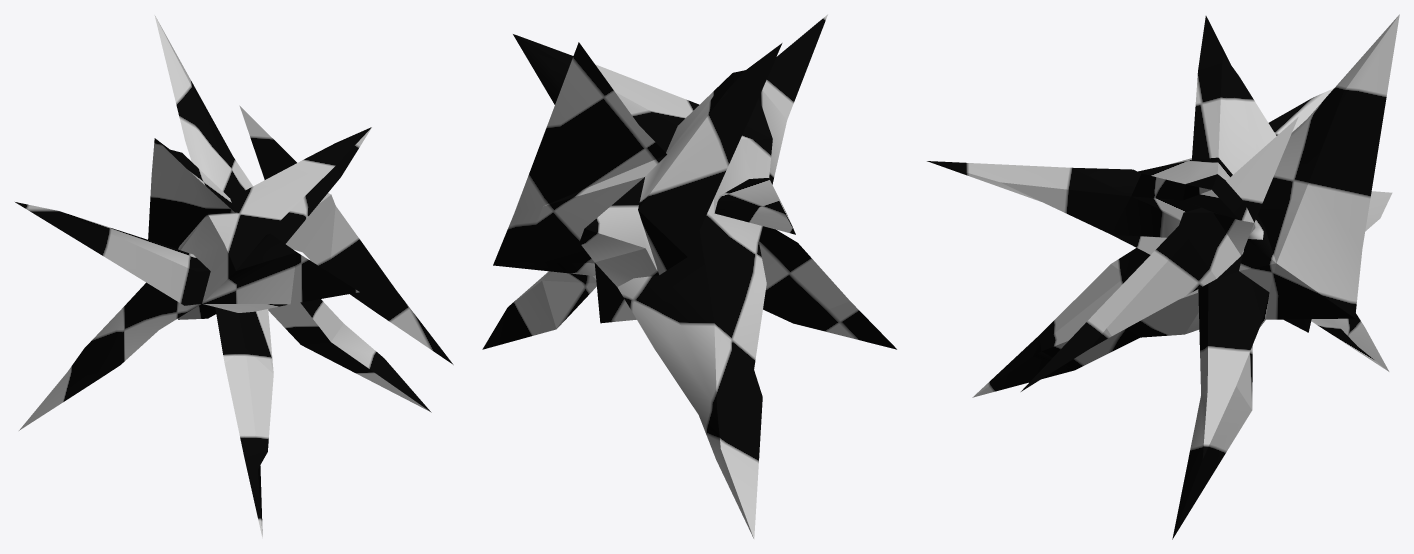
The model's file is z_gate_asteroid.obj.
The picture shows the model from 3 angles, left to right: view 1: azimuth 30°, elevation 25°; view 2: azimuth 150°, elevation 25°; view 3: azimuth 270°, elevation 25°; orthographic projection. The views are drawn at different scales.
Visible parts, largest first — view 1: Object002; view 2: Object002; view 3: Object002.
Boxes of the visible parts, box(x1,y1,x2,y2) form: Object002: box(15, 15, 453, 538); Object002: box(482, 14, 896, 539); Object002: box(927, 14, 1399, 539).
Size of the model in its own units: 143 by 153 by 151.
Materials: 1 (1 with a texture image).
